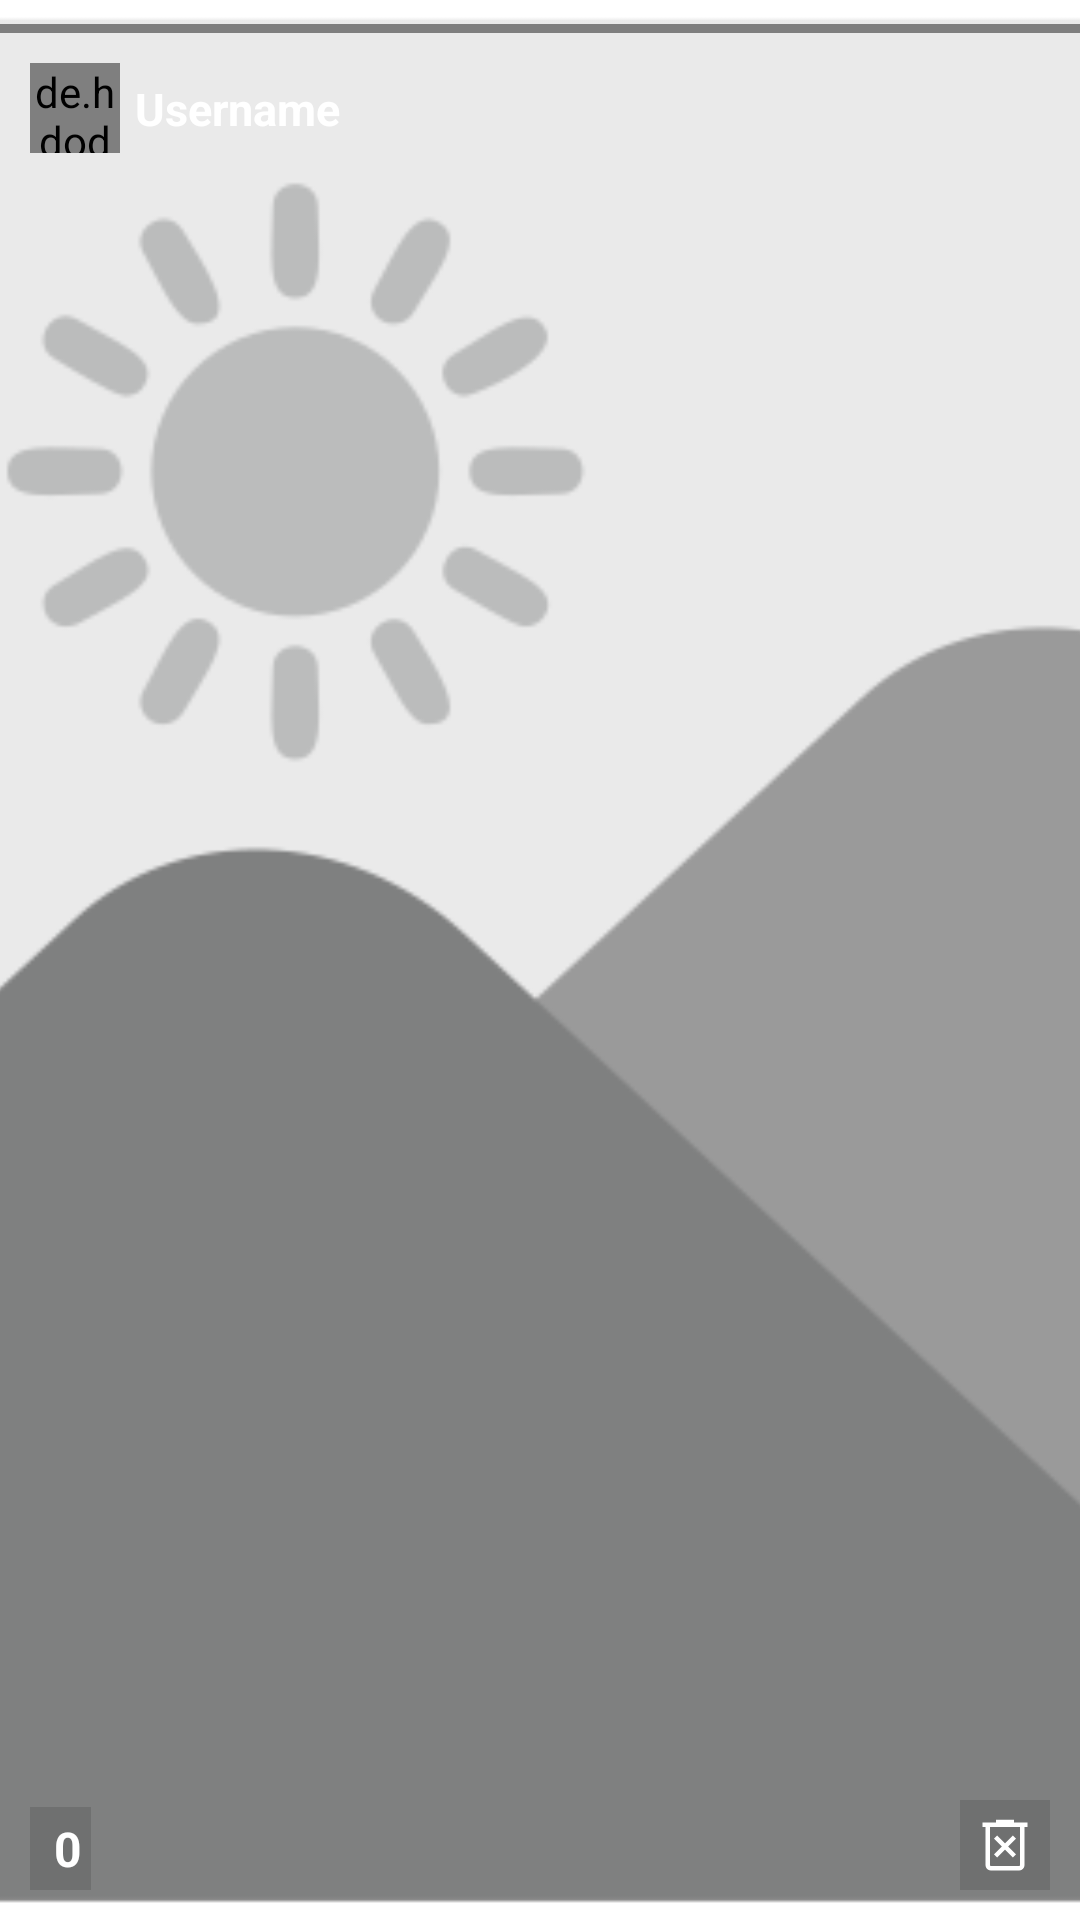

Where to tap for icons on this 1080px x 1920px app screen, as point (x, y):
story delete: point (1005, 1845)
